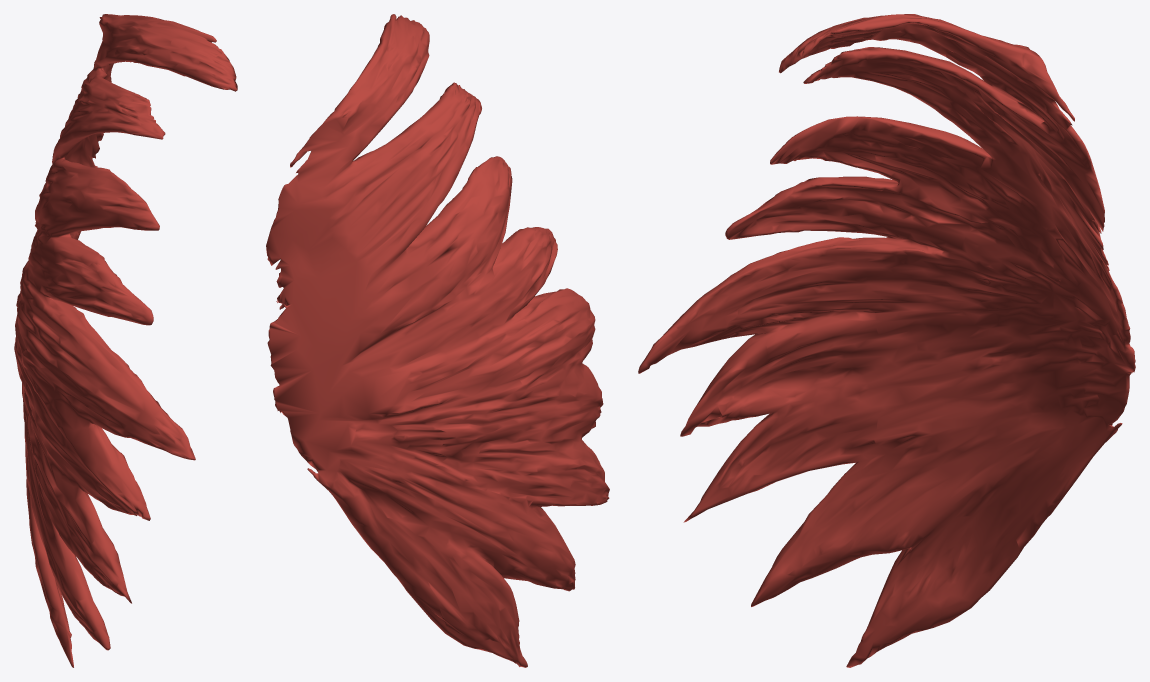
Rendered from musculos-serratus-anterior-muscle-r.glb.
3 renders of one model, left to right at view 1: azimuth 30°, elevation 25°; view 2: azimuth 150°, elevation 25°; view 3: azimuth 270°, elevation 25°, orthographic. The views are drawn at different scales.
Parts seen in each view (by area): view 1: Serratus anterior muscle.r; view 2: Serratus anterior muscle.r; view 3: Serratus anterior muscle.r.
Boxes of the visible parts, bbox=[...] form: Serratus anterior muscle.r: bbox=[14, 14, 237, 667]; Serratus anterior muscle.r: bbox=[266, 14, 609, 667]; Serratus anterior muscle.r: bbox=[638, 14, 1135, 667].
Bounding box in the file's own units: 0.0863 × 0.2747 × 0.1721.
